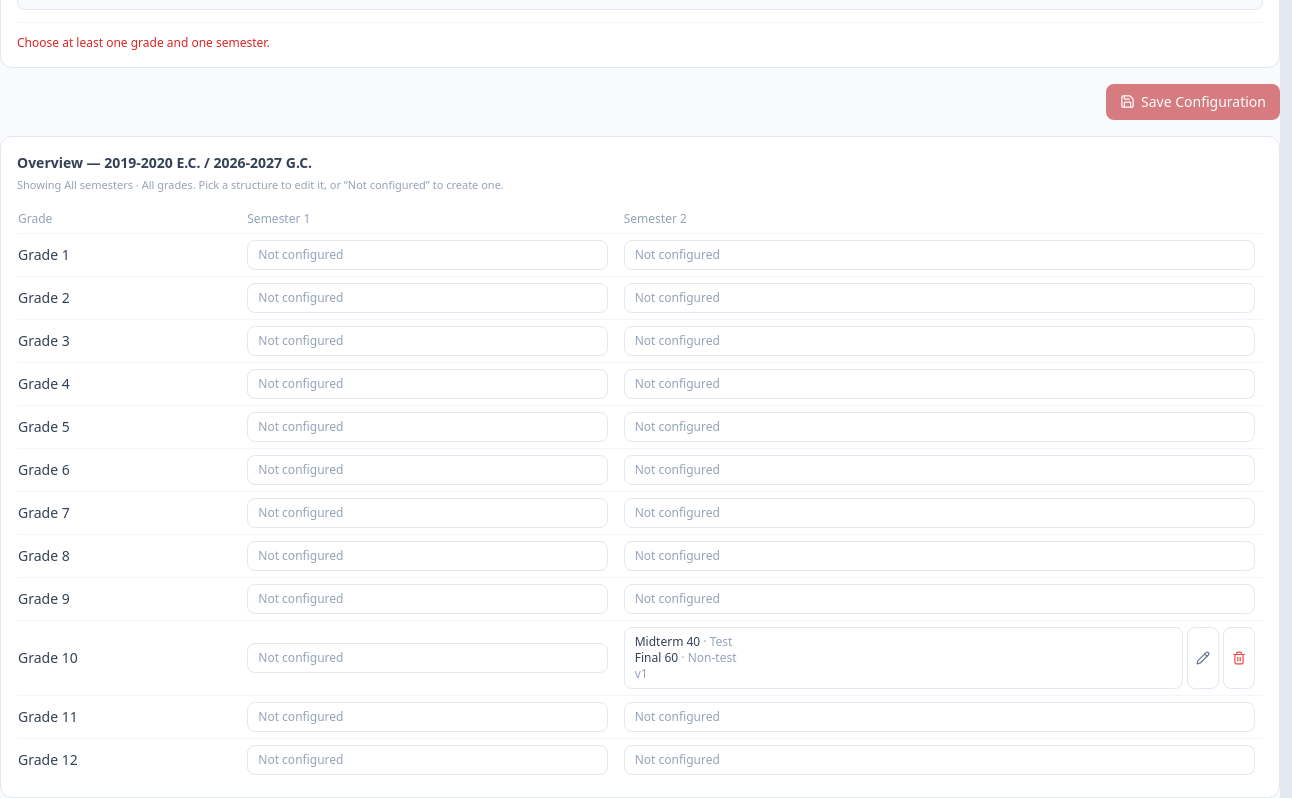
Tests 4 & 5 — apply to one semester / all semesters › the preview says which combinations are new, which replace an existing structure and which are already identical
This screenshot has width=1292, height=798.
(page scrolled)
Click the button named "Edit structure for Grade 10 Semester 2": (1203, 658) [1187,627,1219,689]
(page scrolled)
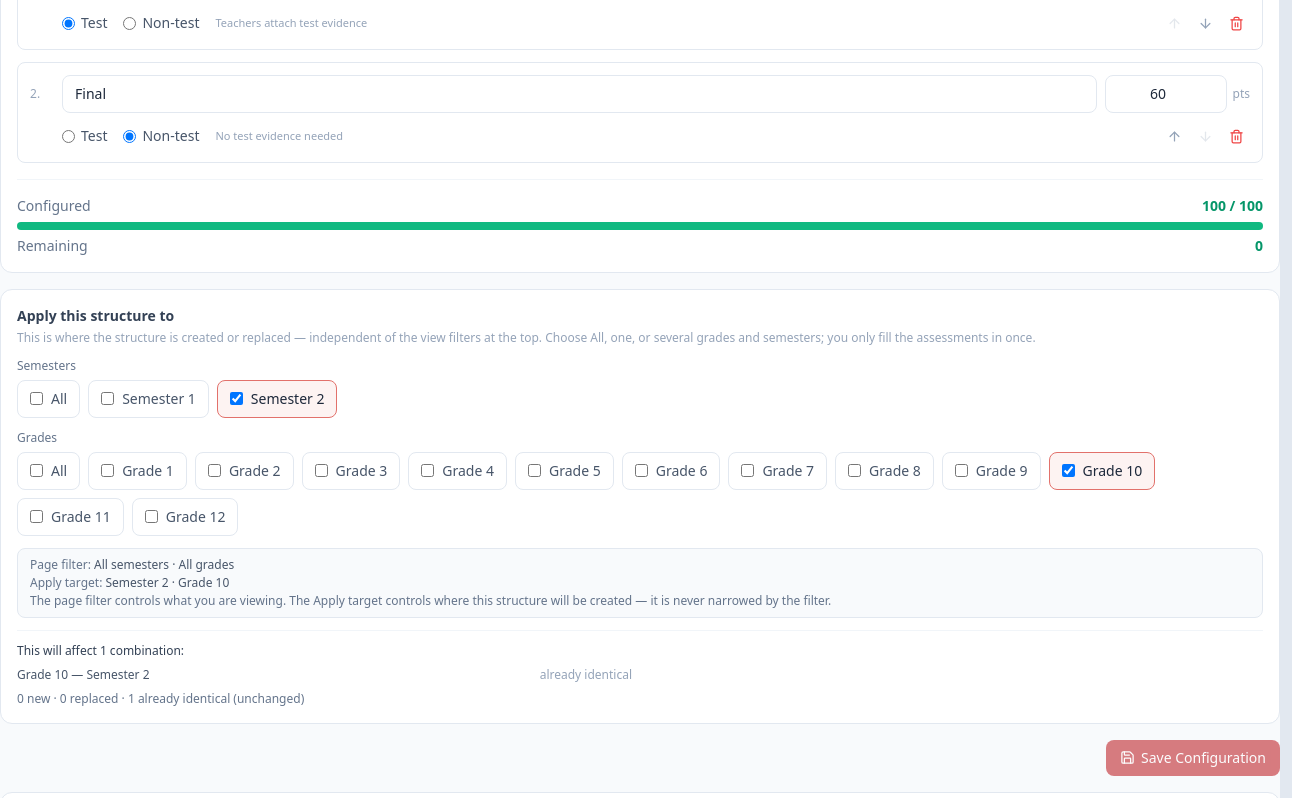
Click the checkbox labelled "Semester 1": (108, 398) [101,392,114,405]
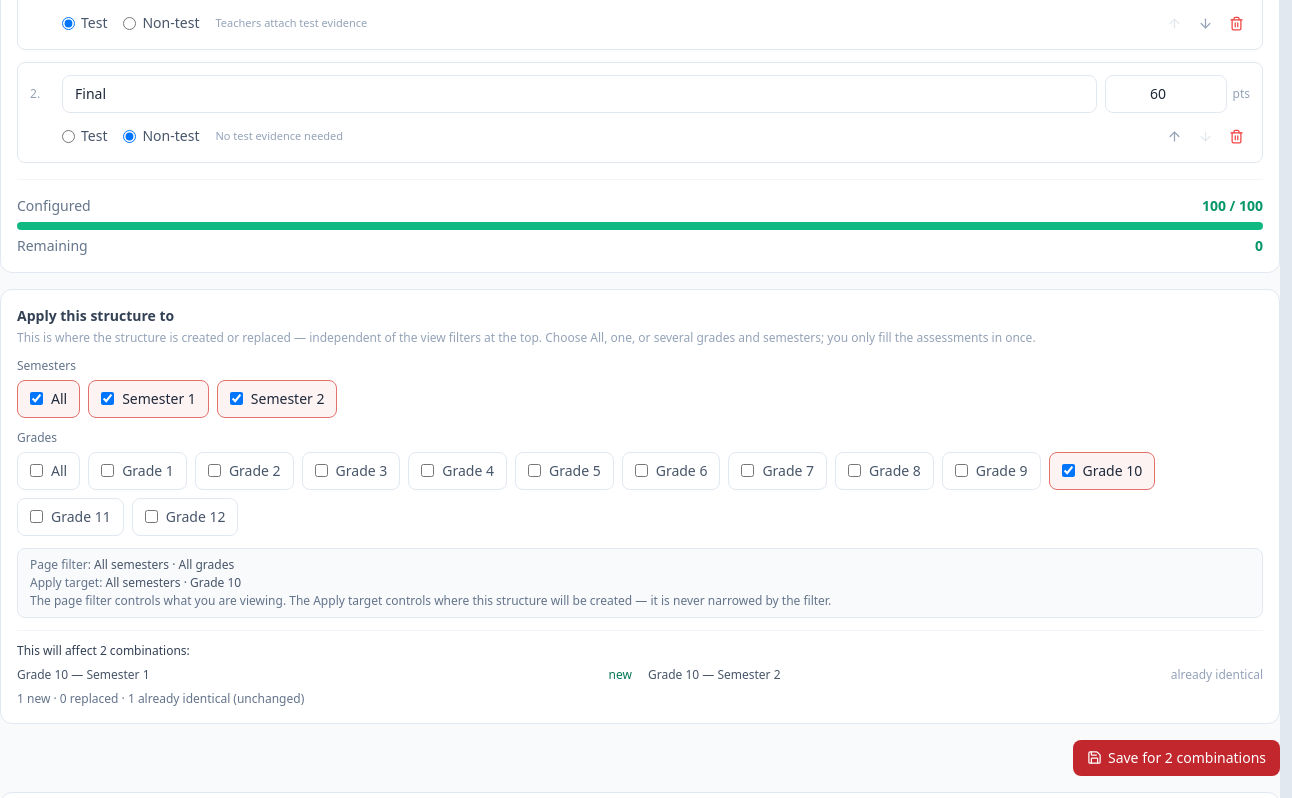
Now the text "1 new · 0 replaced · 1 already identical (unchanged)" is shown, box [17,690,304,706]
